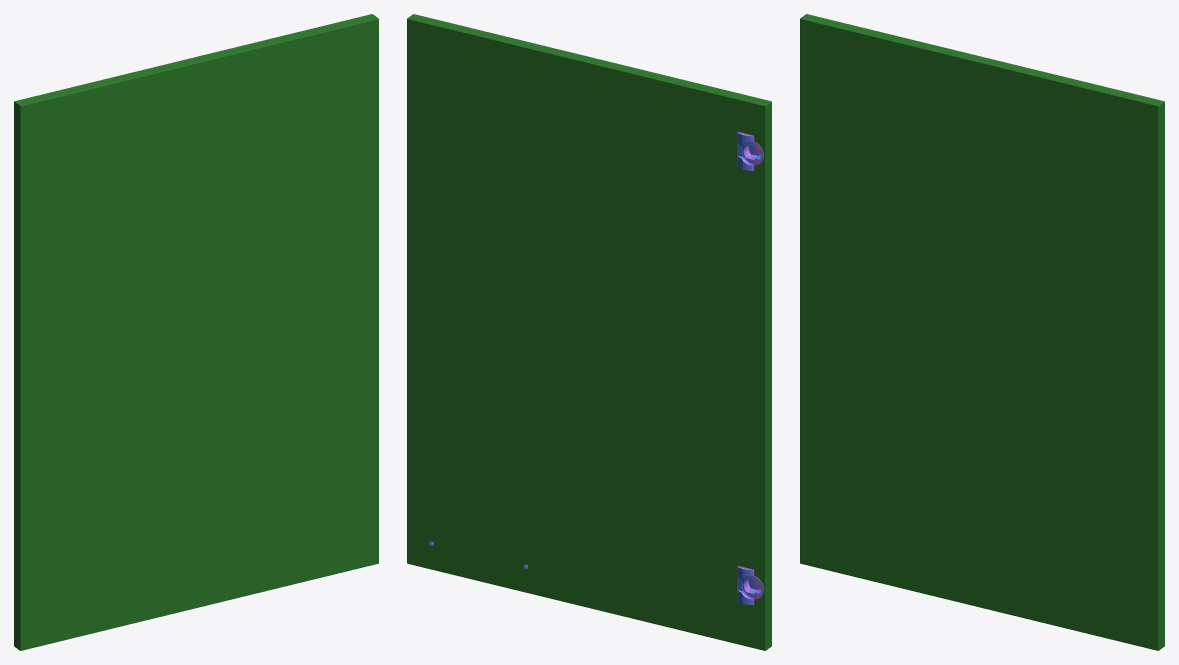
The model's file is SM_Kitchen_01_Door_01.fbx.
3 renders of one model, left to right at view 1: azimuth 30°, elevation 25°; view 2: azimuth 150°, elevation 25°; view 3: azimuth 330°, elevation 25°, orthographic.
Visible parts, largest first — view 1: SM_Kitchen_01_Door_01; view 2: SM_Kitchen_01_Door_01; view 3: SM_Kitchen_01_Door_01.
Boxes of the visible parts, box(x1,y1,x2,y2) form: SM_Kitchen_01_Door_01: box(14, 14, 378, 650); SM_Kitchen_01_Door_01: box(407, 14, 771, 650); SM_Kitchen_01_Door_01: box(800, 14, 1164, 650).
Size of the model in its own units: 59.69 by 86.68 by 2.49.
3 materials, 2 textured.
